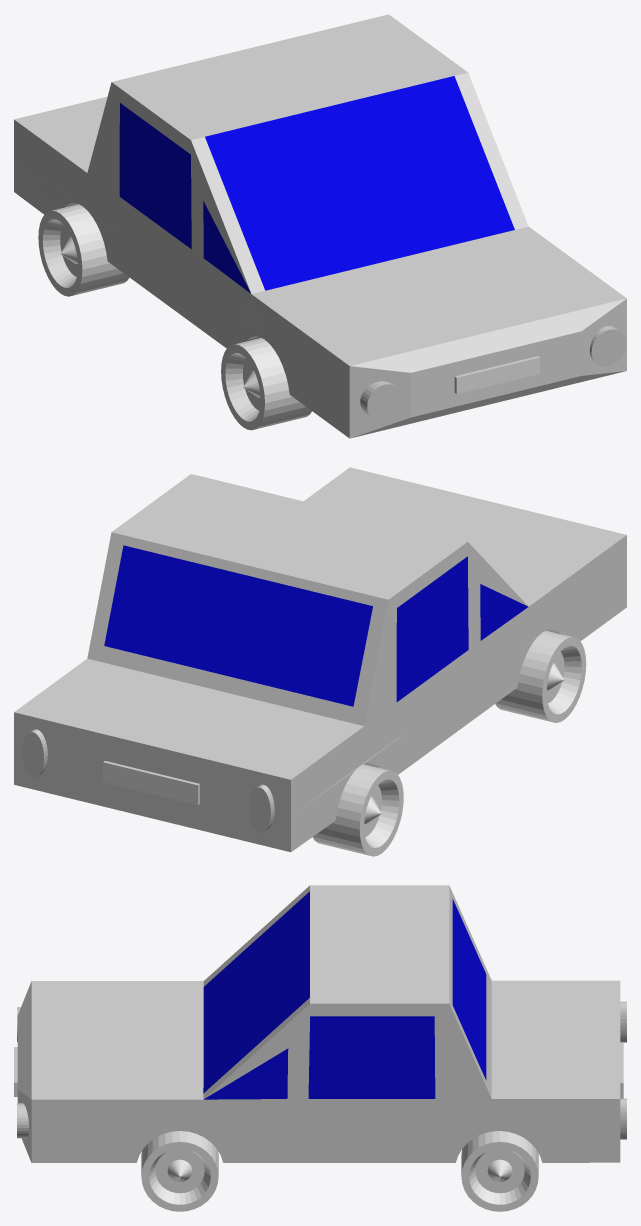
Rendered from car.fbx.
3 renders of one model, top to bottom at view 1: azimuth 30°, elevation 25°; view 2: azimuth 150°, elevation 25°; view 3: azimuth 270°, elevation 25°, orthographic. The views are drawn at different scales.
Parts seen in each view (by area): view 1: Cube, whele 3, whele 4, lights; view 2: Cube, whele 4, whele 3, lights; view 3: Cube, whele 1, whele 2, lights.
Part boxes in pixels (x1,y1,x2,y2): Cube: [14, 14, 626, 438]; whele 3: [38, 204, 129, 296]; whele 4: [221, 338, 311, 430]; lights: [360, 325, 625, 421]; Cube: [14, 467, 626, 852]; whele 4: [495, 630, 586, 722]; whele 3: [312, 764, 403, 856]; lights: [22, 729, 274, 832]; Cube: [14, 885, 623, 1162]; whele 1: [141, 1131, 218, 1211]; whele 2: [461, 1131, 538, 1211]; lights: [17, 1001, 626, 1139].
Bounding box in the file's own units: 462 × 314 × 874.
